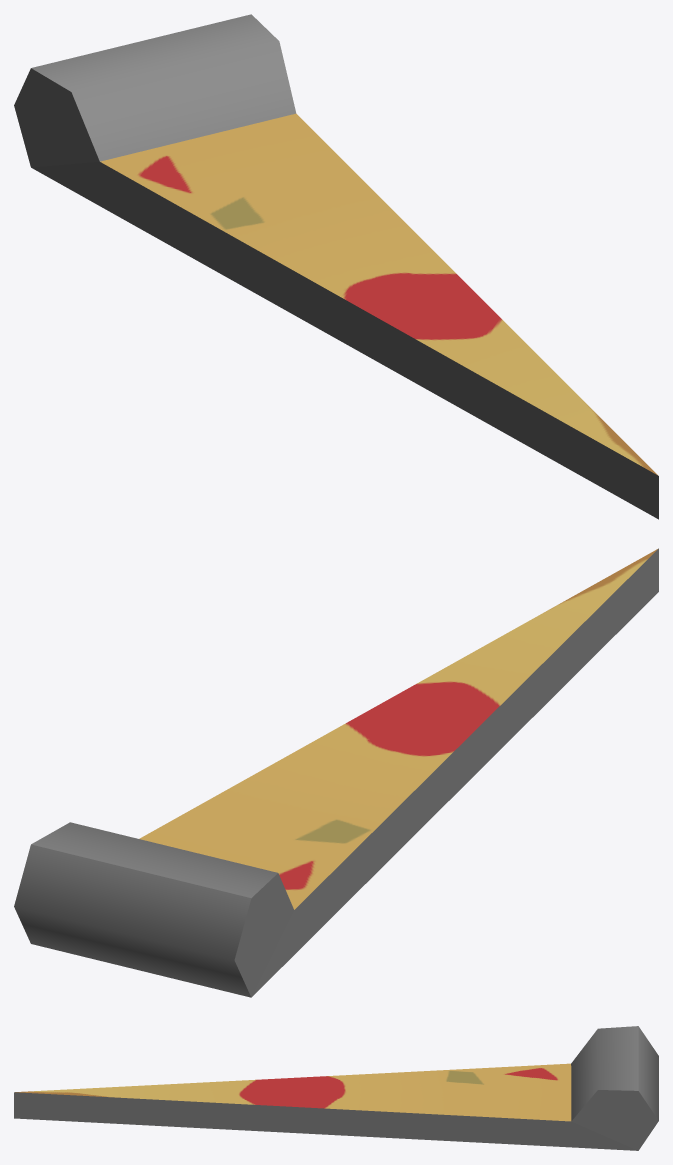
The model's file is PizzaSlice.fbx.
3 views of the same model, one above another, from view 1: azimuth 30°, elevation 25°; view 2: azimuth 150°, elevation 25°; view 3: azimuth 270°, elevation 25° (orthographic). The views are drawn at different scales.
Visible parts, largest first — view 1: PizzaSlice; view 2: PizzaSlice; view 3: PizzaSlice.
Part boxes in pixels (x1,y1,x2,y2): PizzaSlice: (14, 14, 658, 519); PizzaSlice: (14, 548, 658, 997); PizzaSlice: (14, 1026, 658, 1150).
Size of the model in its own units: 8.28 by 3.57 by 34.77.
